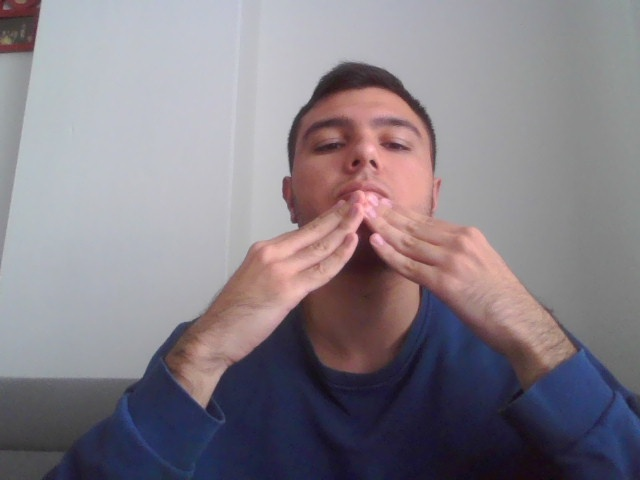thanks: (197, 190, 579, 385)
